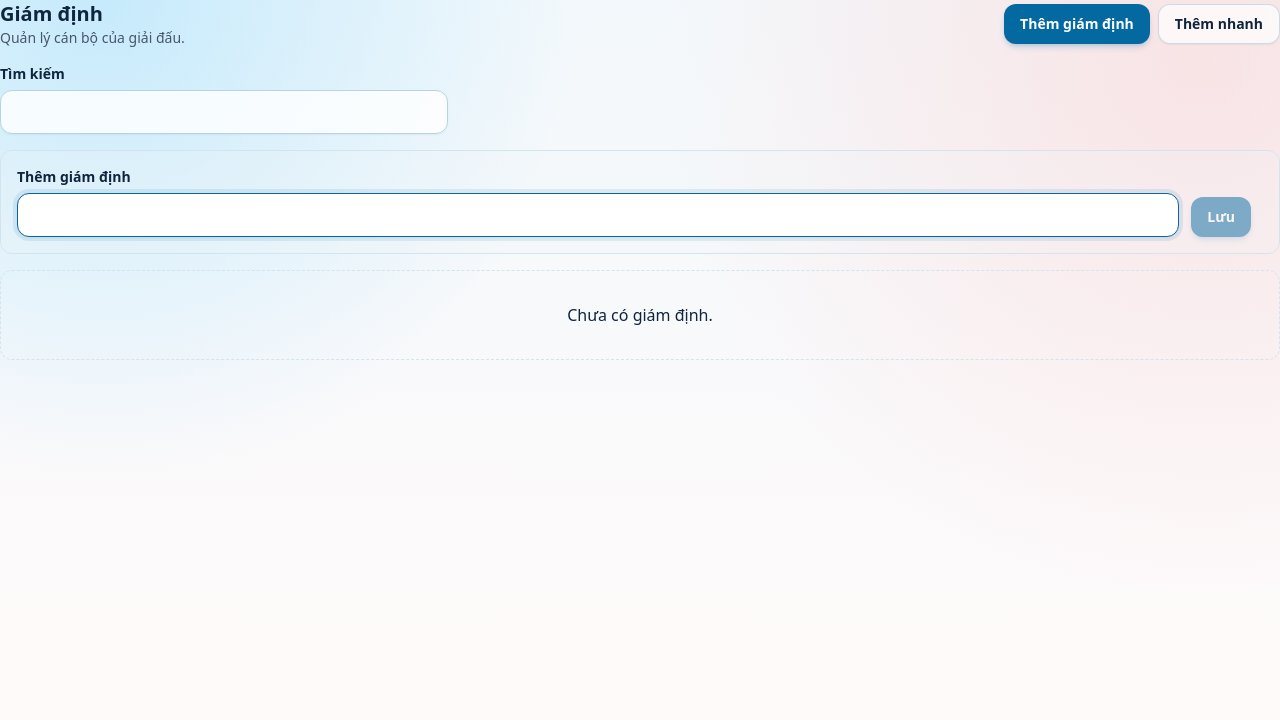
Test: TournamentOfficialsPage credentials › rejects invalid quantities and allows cancelling
Click the button "Thêm nhanh" at (1219, 24), box top-left (1158, 4), bottom-right (1279, 44)
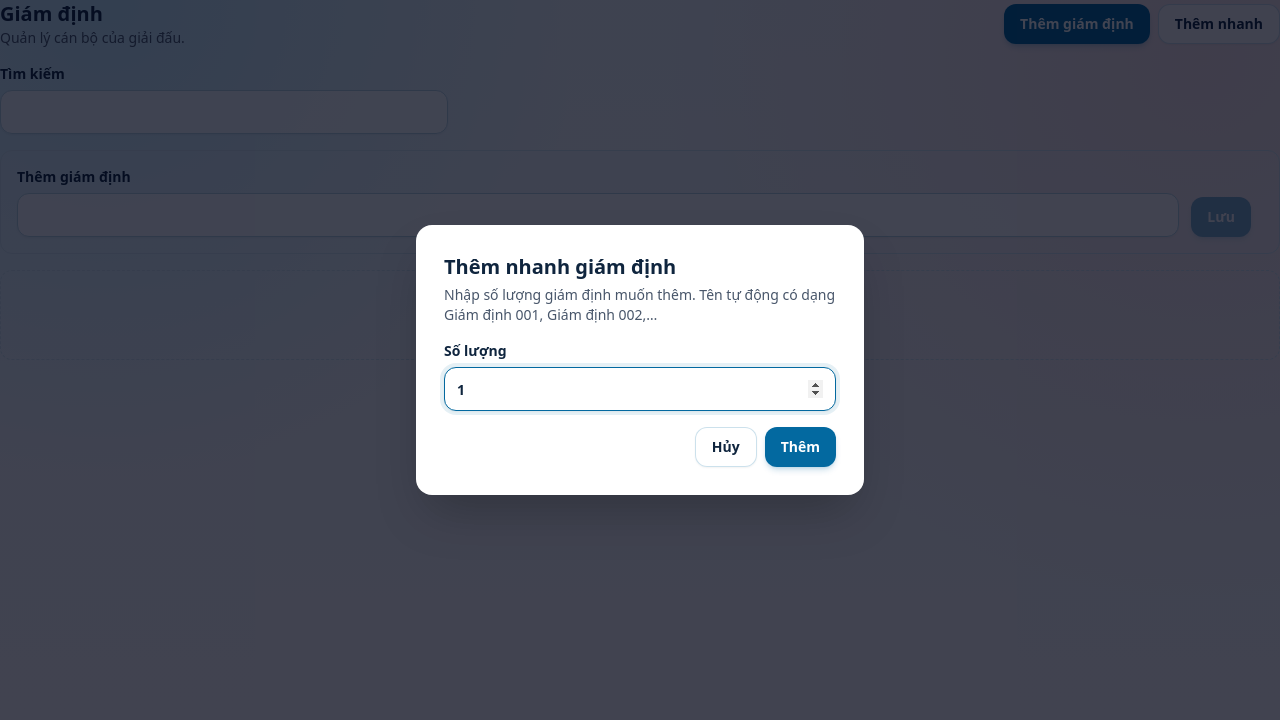
Replace the text in the number field labelled "Số lượng" with "0" at (640, 389), box top-left (444, 367), bottom-right (836, 411)
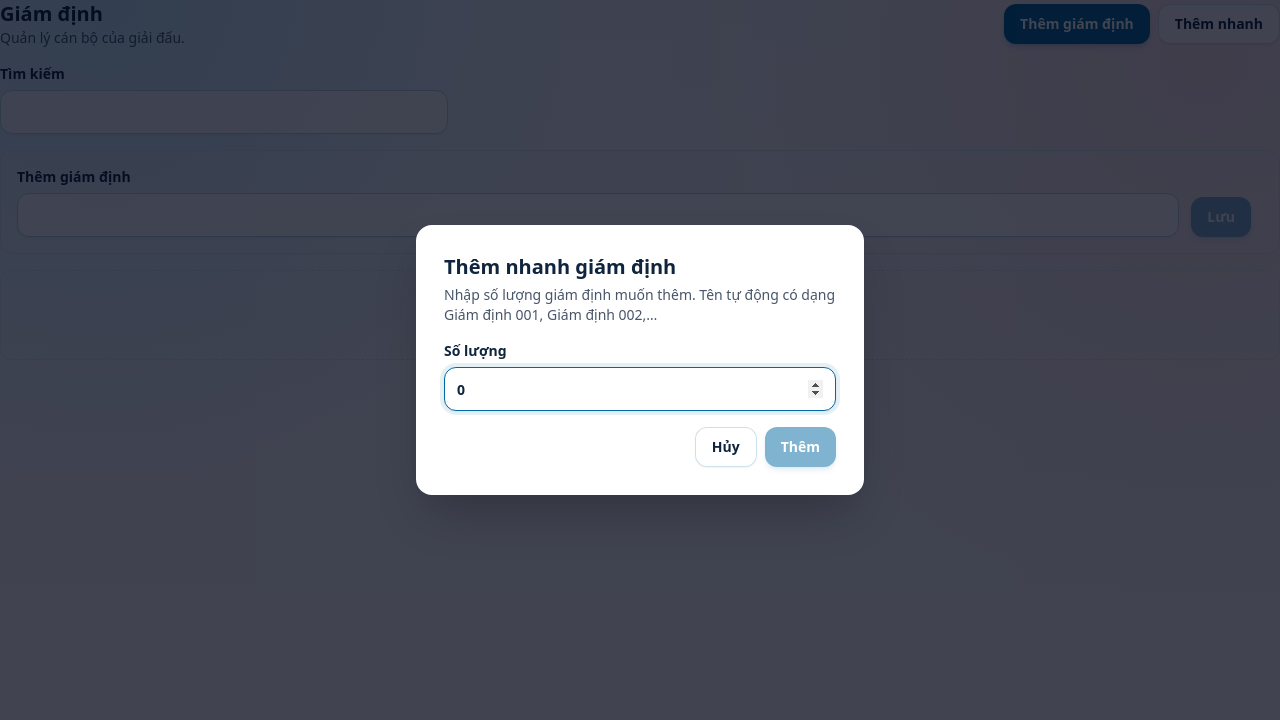
Result: the button "Thêm" is disabled at top-left (765, 427), bottom-right (836, 467)
Replace the text in the number field labelled "Số lượng" with "-1" at (640, 389), box top-left (444, 367), bottom-right (836, 411)
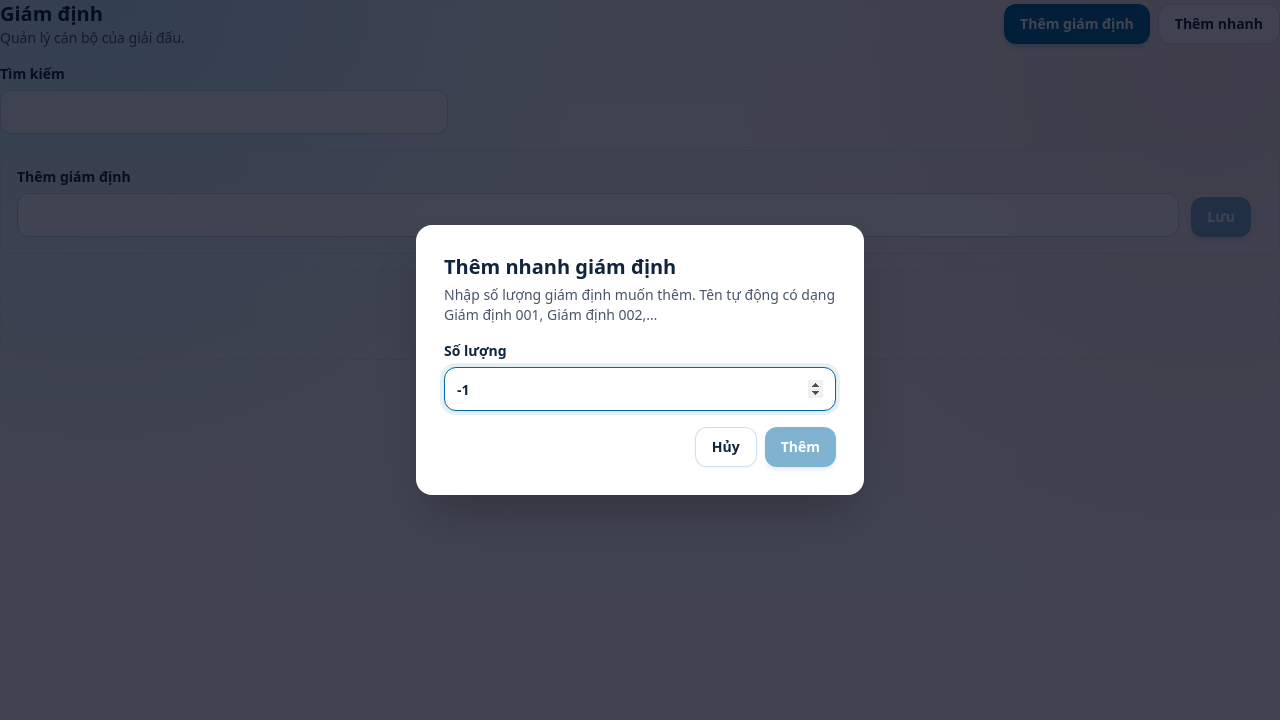
Result: the button "Thêm" is disabled at top-left (765, 427), bottom-right (836, 467)
Replace the text in the number field labelled "Số lượng" with "1.5" at (640, 389), box top-left (444, 367), bottom-right (836, 411)
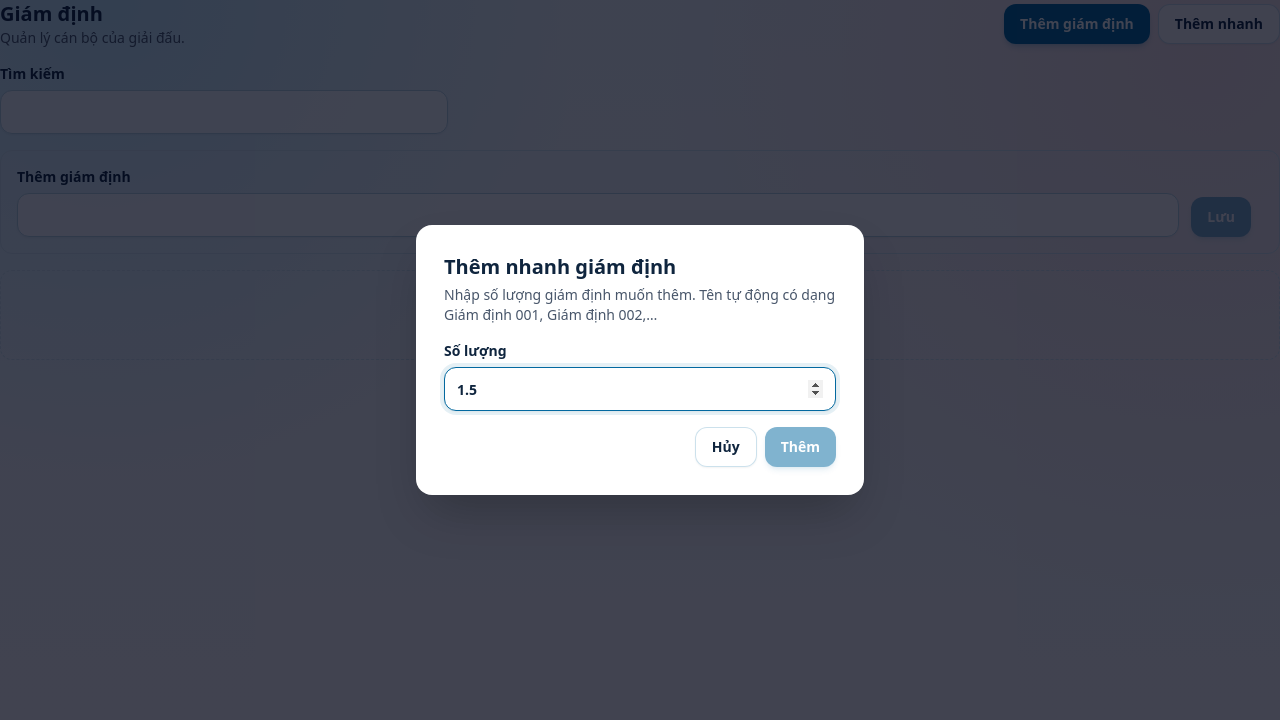
Result: the button "Thêm" is disabled at top-left (765, 427), bottom-right (836, 467)
Clear the number field labelled "Số lượng" at (640, 389), box top-left (444, 367), bottom-right (836, 411)
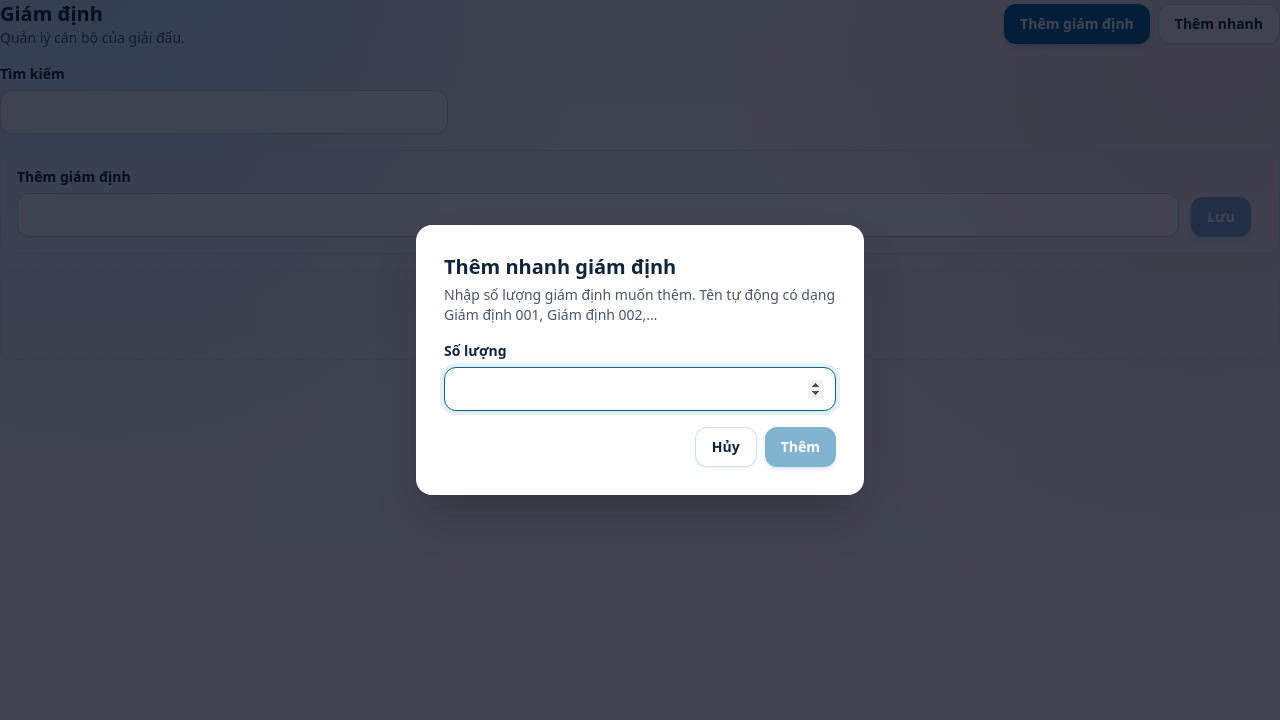
Result: the button "Thêm" is disabled at top-left (765, 427), bottom-right (836, 467)
Click the button "Hủy" at (726, 447), box top-left (695, 427), bottom-right (757, 467)
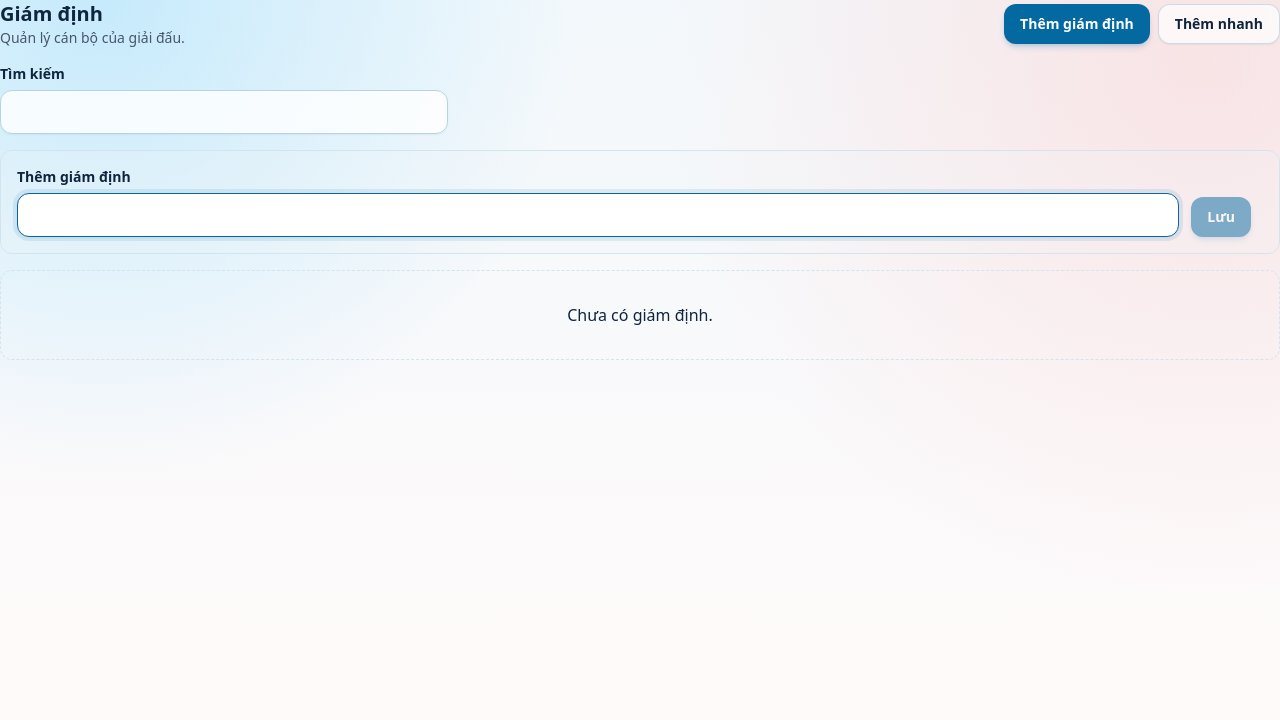
Result: the dialog is gone
